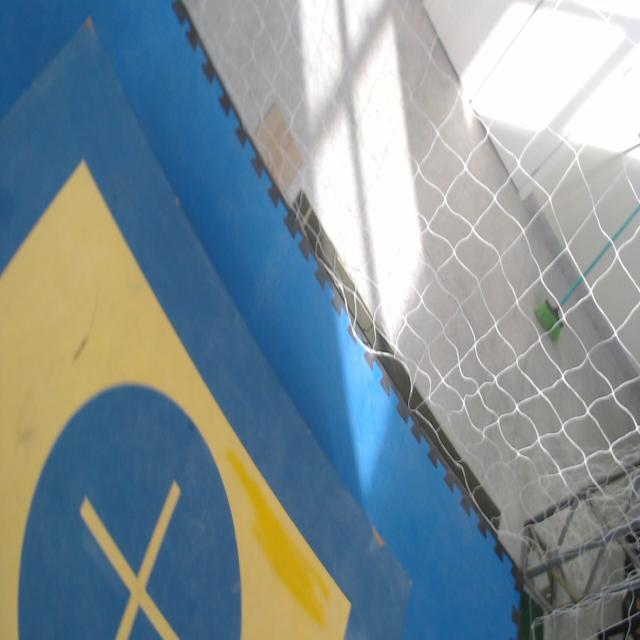base_inicio: (0, 158, 352, 639)
